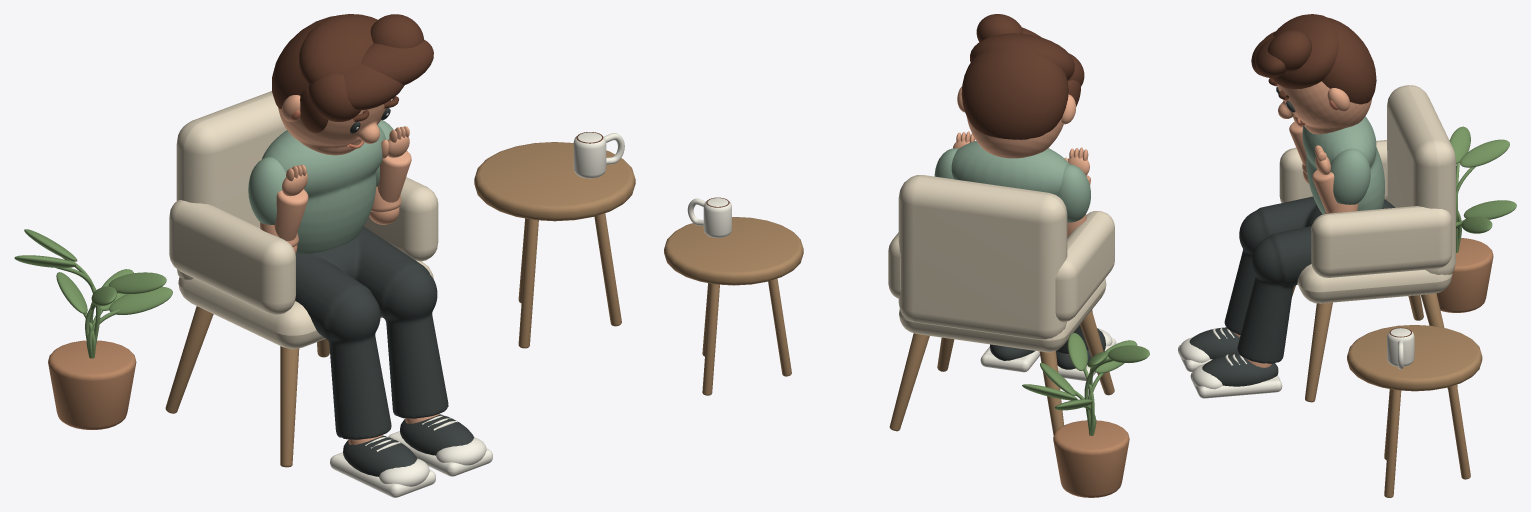
File: asumi-office.glb
3 views of the same model, side by side, from view 1: azimuth 30°, elevation 25°; view 2: azimuth 150°, elevation 25°; view 3: azimuth 270°, elevation 25° (orthographic). The views are drawn at different scales.
Visible parts, largest first — view 1: Sculpted trousers, Padded armrest, Side table top, Rounded chair back, Sculpted tee, Clay planter, Seat cushion, Hair crown, Padded armrest.001, Sculpted face, Swept lock 2, Tapered chair leg (+20 smaller); view 2: Rounded chair back, Back hair, Side table top, Clay planter, Padded armrest, Sculpted tee, Seat cushion, Hair crown, Sculpted face, Tapered chair leg.003, Short sleeve, Side table leg (+9 smaller); view 3: Sculpted trousers, Padded armrest.001, Rounded chair back, Side table top, Seat cushion, Sculpted tee, Clay planter, Hair crown, Back hair, Sculpted face, Short sleeve.001, Padded armrest (+19 smaller).
Boxes of the visible parts, left/top/right/bottom form: Sculpted trousers: left=295, top=226, right=448, bottom=439; Padded armrest: left=169, top=200, right=295, bottom=314; Side table top: left=474, top=142, right=635, bottom=221; Rounded chair back: left=176, top=91, right=286, bottom=279; Sculpted tee: left=262, top=124, right=385, bottom=253; Clay planter: left=48, top=340, right=136, bottom=429; Seat cushion: left=178, top=260, right=433, bottom=349; Hair crown: left=299, top=14, right=377, bottom=85; Padded armrest.001: left=364, top=177, right=438, bottom=261; Sculpted face: left=278, top=100, right=390, bottom=155; Swept lock 2: left=361, top=39, right=433, bottom=85; Tapered chair leg: left=280, top=346, right=299, bottom=467; Rounded chair back: left=898, top=175, right=1067, bottom=339; Back hair: left=961, top=47, right=1068, bottom=139; Side table top: left=664, top=217, right=803, bottom=285; Clay planter: left=1053, top=420, right=1129, bottom=497; Padded armrest: left=1055, top=211, right=1114, bottom=322; Sculpted tee: left=951, top=141, right=1069, bottom=195; Seat cushion: left=899, top=278, right=1106, bottom=352; Hair crown: left=970, top=33, right=1074, bottom=80; Sculpted face: left=966, top=116, right=1063, bottom=158; Tapered chair leg.003: left=889, top=333, right=929, bottom=431; Short sleeve: left=1057, top=164, right=1090, bottom=222; Side table leg: left=702, top=283, right=719, bottom=395; Sculpted trousers: left=1224, top=196, right=1394, bottom=363; Padded armrest.001: left=1311, top=206, right=1452, bottom=277; Rounded chair back: left=1387, top=85, right=1455, bottom=274; Side table top: left=1347, top=325, right=1482, bottom=391; Seat cushion: left=1297, top=264, right=1452, bottom=303; Sculpted tee: left=1302, top=116, right=1384, bottom=214; Clay planter: left=1436, top=238, right=1493, bottom=312; Hair crown: left=1271, top=14, right=1338, bottom=89; Back hair: left=1322, top=17, right=1376, bottom=104; Sculpted face: left=1277, top=81, right=1371, bottom=134; Short sleeve.001: left=1330, top=148, right=1370, bottom=204; Padded armrest: left=1279, top=140, right=1387, bottom=202.
Size of the model in its own units: 2.82 by 1.96 by 1.7.
